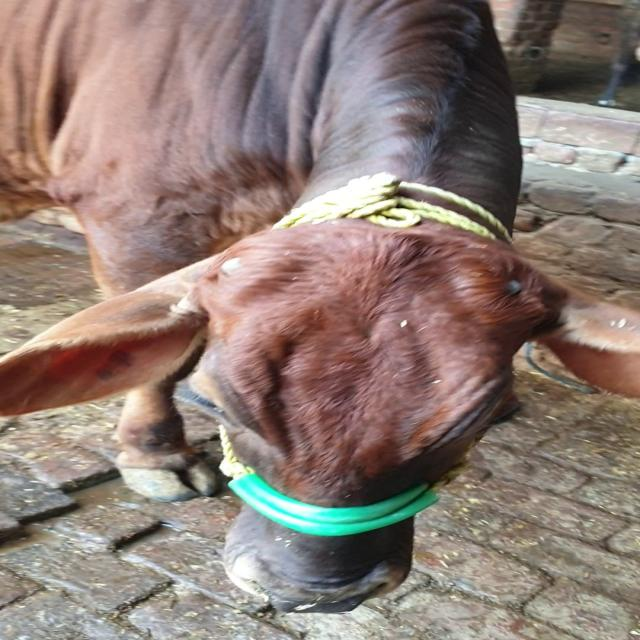cowFace: (161, 223, 523, 609)
